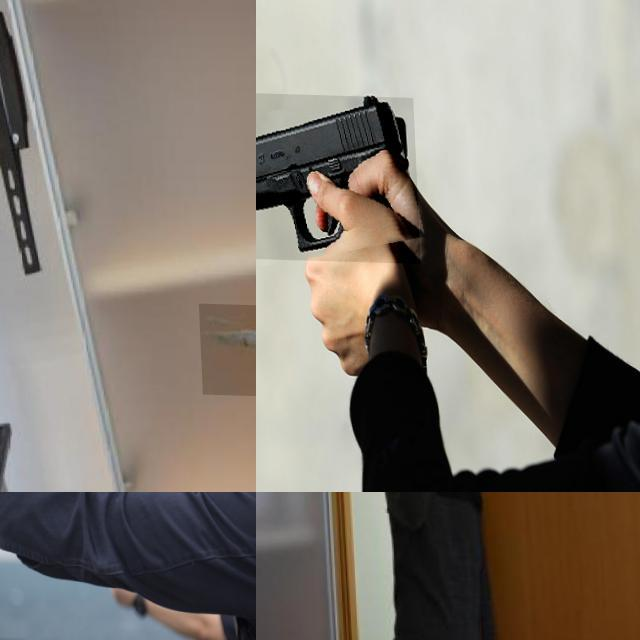-: (195, 301, 256, 396), (383, 492, 427, 523)
gun-knife-thesis - v11 Yolov5 augmented: (256, 91, 417, 261), (0, 492, 64, 535)
